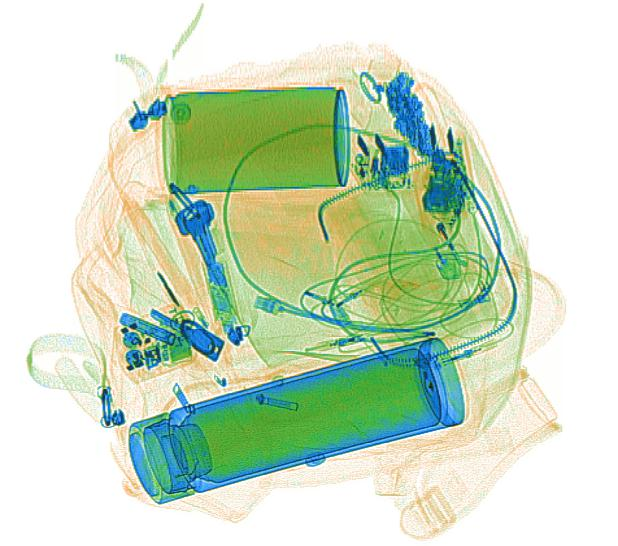USBFlashDisk: (200, 260, 239, 322)
lighter: (398, 177, 466, 283)
